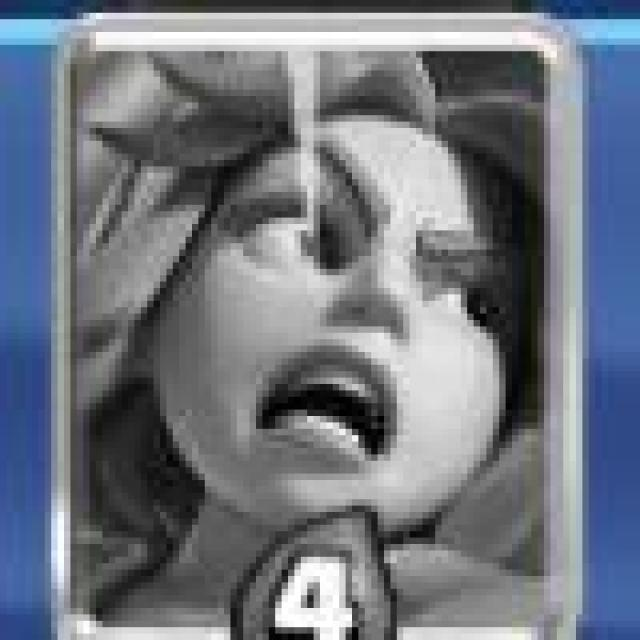Valkyrie: (68, 20, 587, 637)
